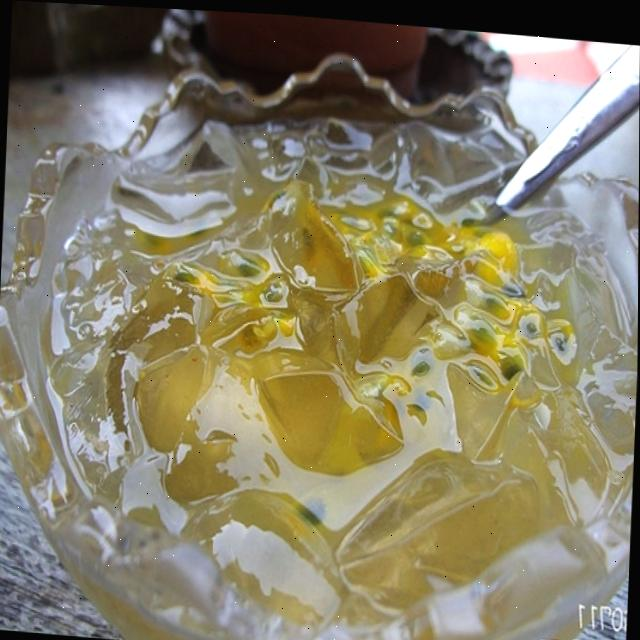蛋糕甜品: (0, 29, 640, 640)
